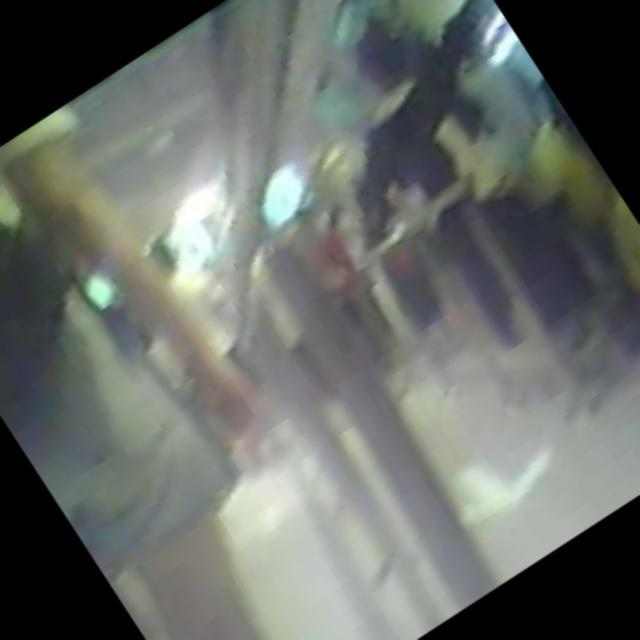person: (0, 116, 397, 640), (273, 0, 640, 430)
